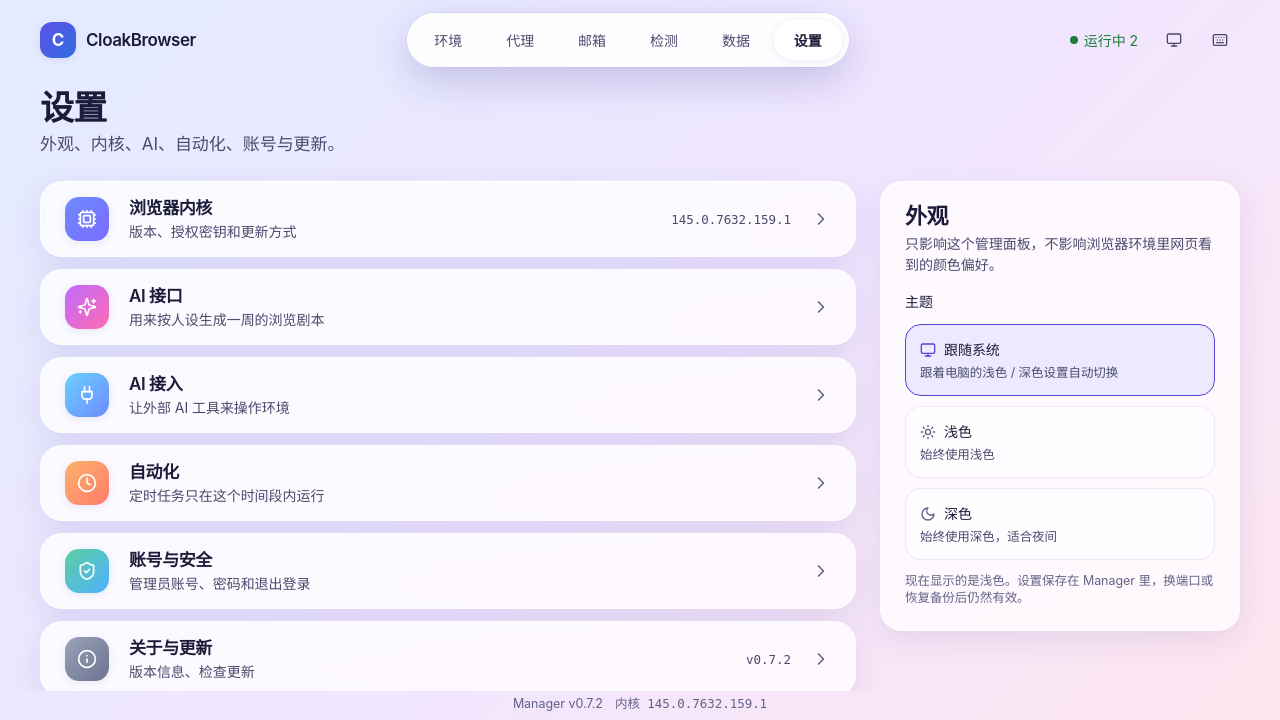
Test: app shell › lists running browsers in the toolbar popover
Click the button "运行中 2": x=1104, y=40 [1060, 24, 1148, 56]
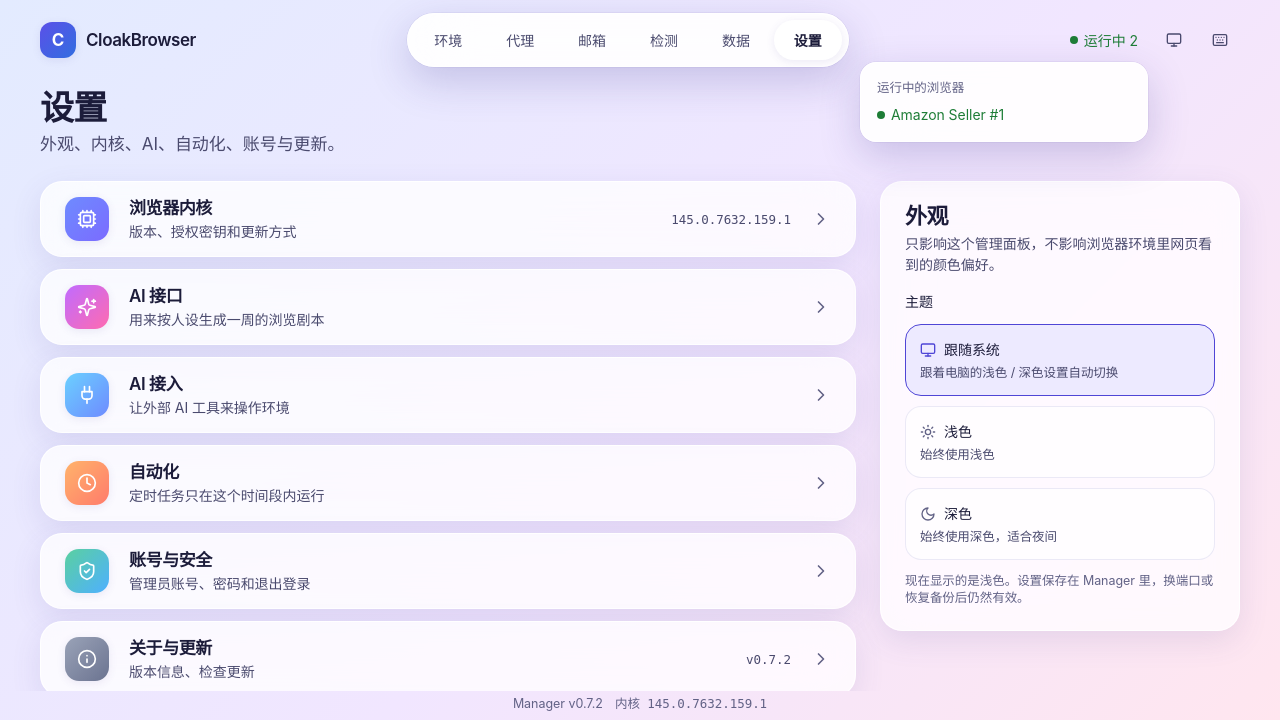
Check: the text "Amazon Seller #1" is shown, box [891, 104, 1004, 125]
